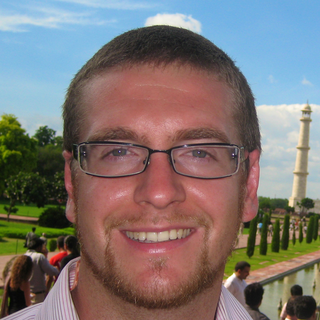eye: (95, 143, 142, 165), (177, 142, 217, 165)
